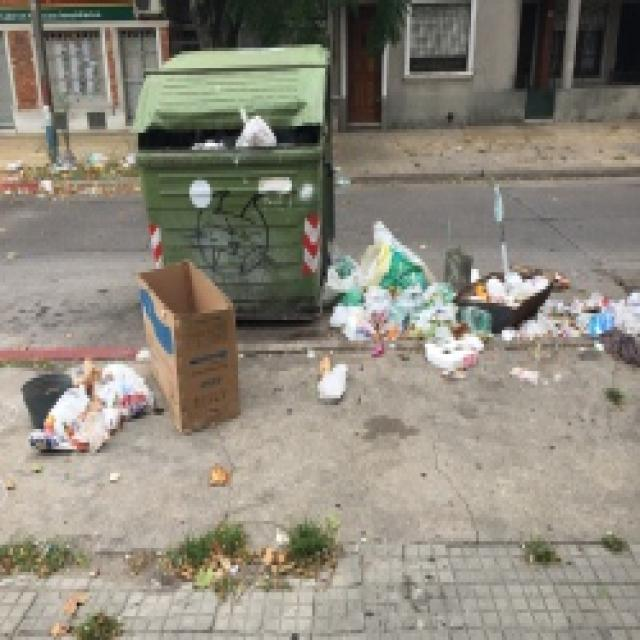garbage: (317, 221, 564, 354), (132, 258, 248, 440), (15, 361, 156, 449), (564, 271, 640, 369), (230, 104, 276, 158)
